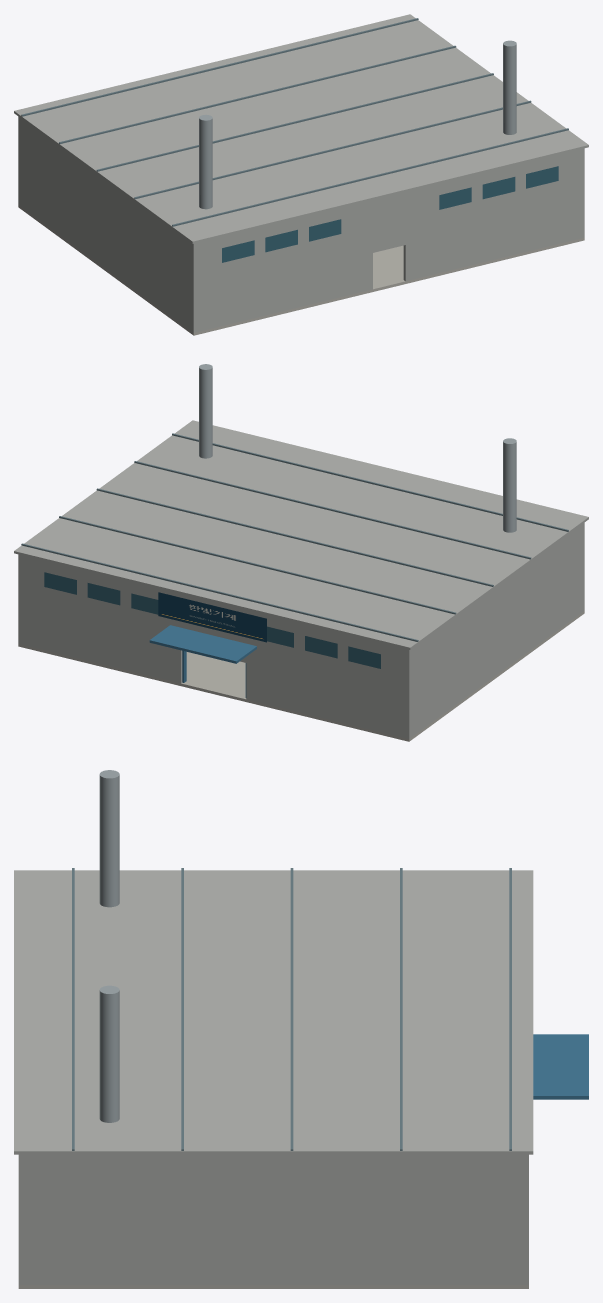
The model's file is factory_hall.glb.
3 views of the same model, one above another, from view 1: azimuth 30°, elevation 25°; view 2: azimuth 150°, elevation 25°; view 3: azimuth 270°, elevation 25° (orthographic). The views are drawn at different scales.
Parts seen in each view (by area): view 1: factory_hall; view 2: factory_hall; view 3: factory_hall.
Part boxes in pixels (x1,y1,x2,y2): factory_hall: [14, 14, 588, 335]; factory_hall: [14, 364, 588, 741]; factory_hall: [14, 770, 588, 1288].
Size of the model in its own units: 36.5 by 16.24 by 31.55.
9 materials, 1 textured.
